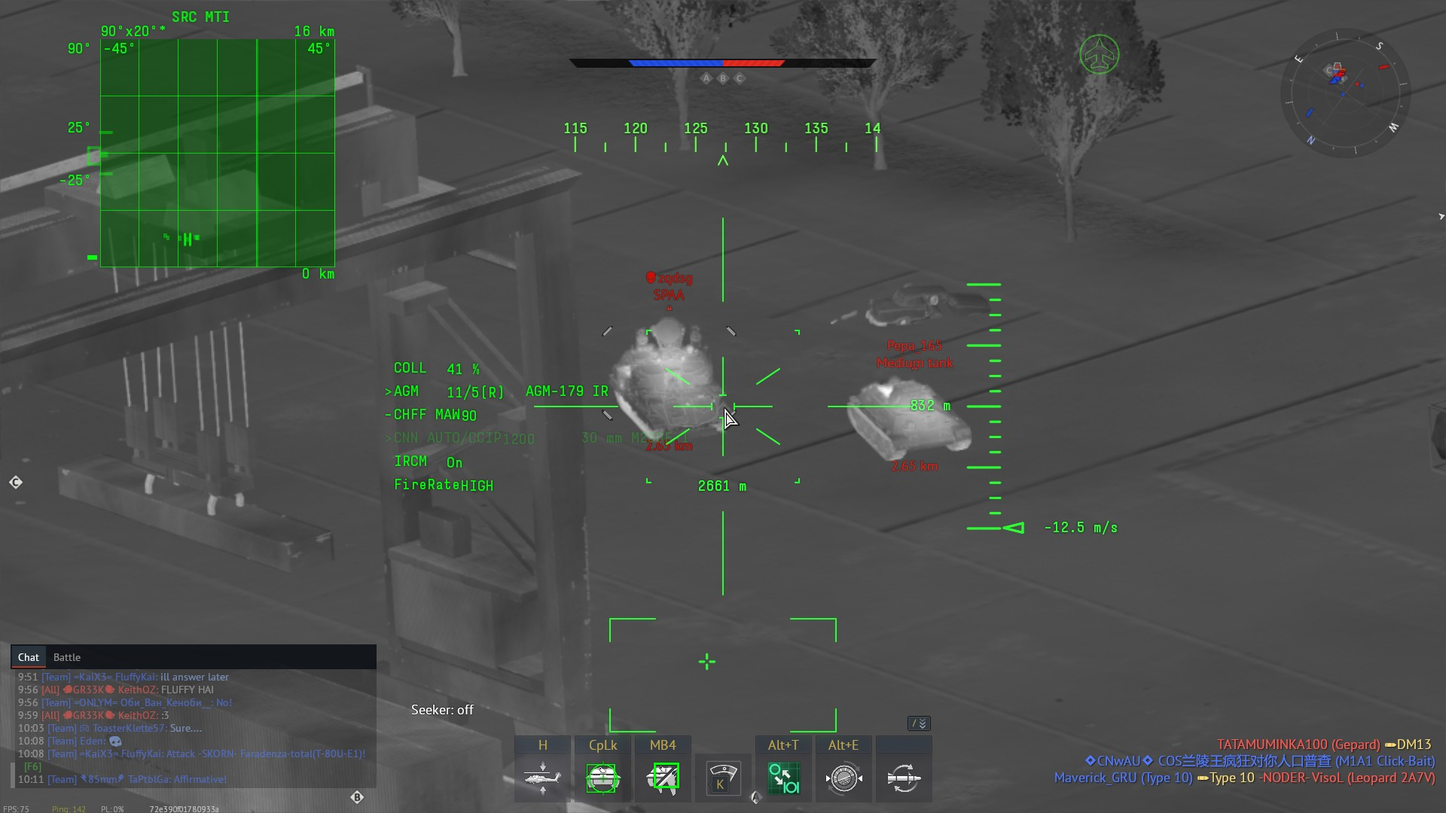spaa_zsu-23: (608, 318, 733, 443)
